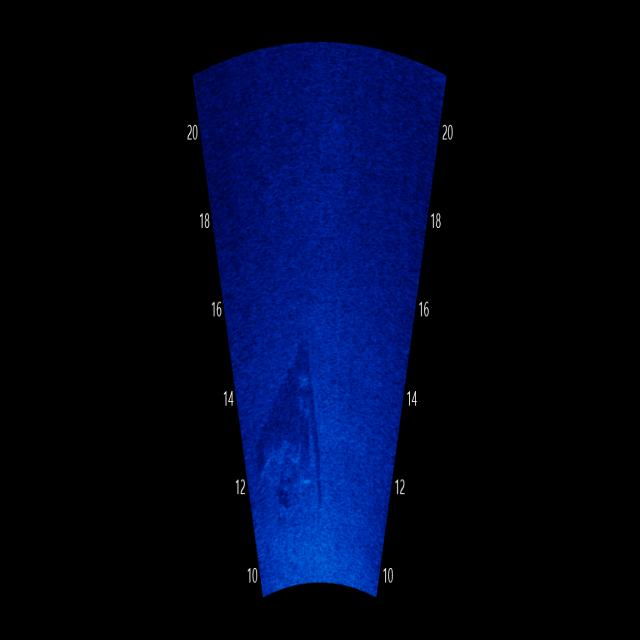triangle: (261, 343, 327, 524)
